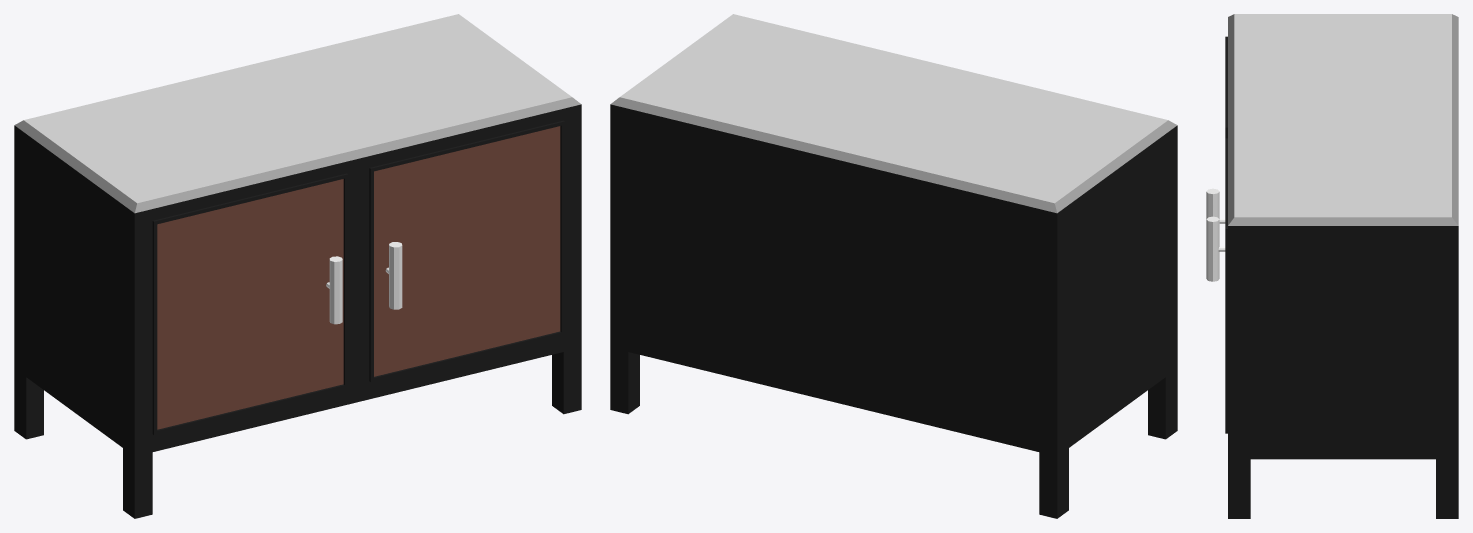
File: Coffee_furtniture.fbx
3 views of the same model, side by side, from view 1: azimuth 30°, elevation 25°; view 2: azimuth 150°, elevation 25°; view 3: azimuth 270°, elevation 25° (orthographic). The views are drawn at different scales.
Parts seen in each view (by area): view 1: Coffee_Furtniture; view 2: Coffee_Furtniture; view 3: Coffee_Furtniture.
Part boxes in pixels (x1,y1,x2,y2): Coffee_Furtniture: (14,14,581,518); Coffee_Furtniture: (610,14,1177,518); Coffee_Furtniture: (1206,14,1458,518).
Bounding box in the file's own units: 150 × 100 × 76.5.
